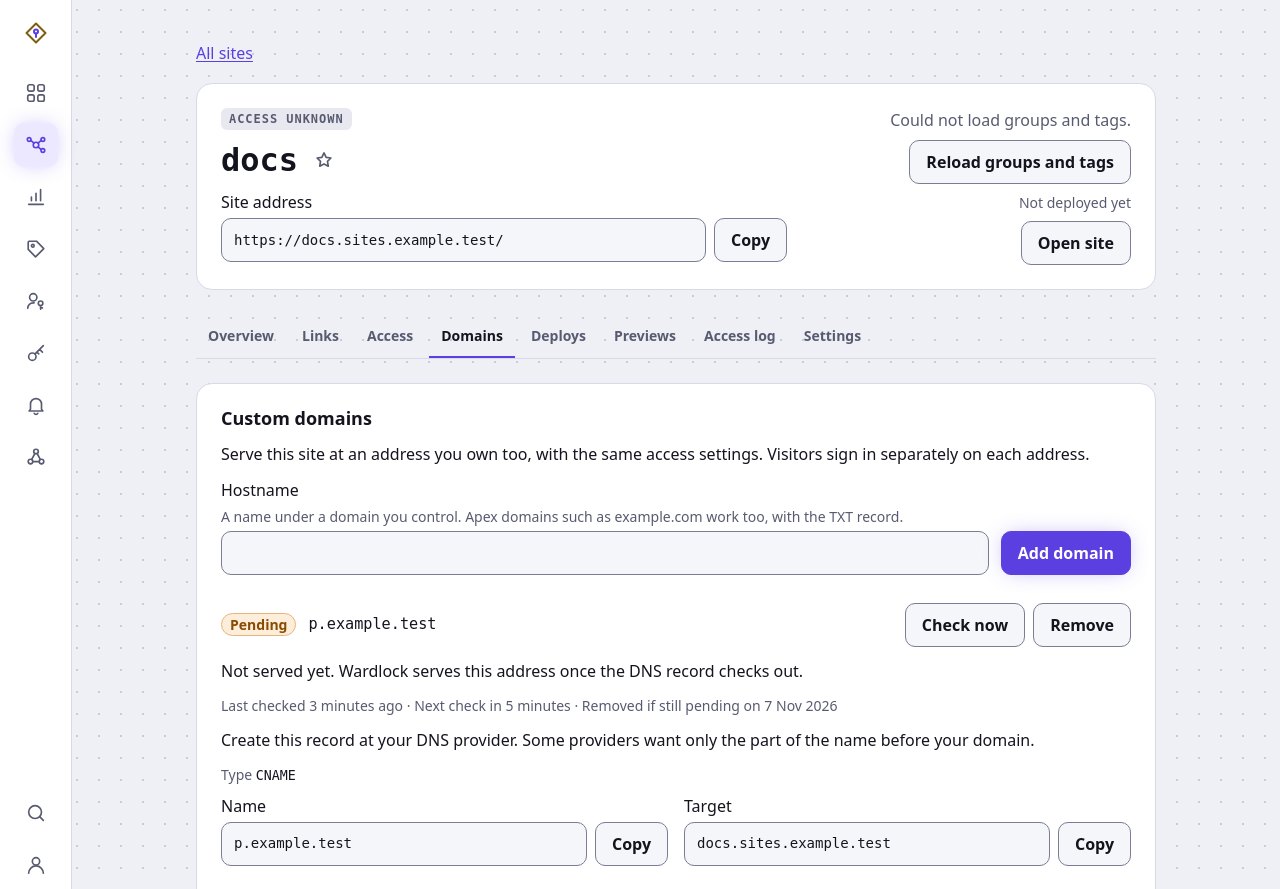
custom domains on the site page › shows the server’s error for a 429 that is not the cooldown
The width and height of the screenshot is (1280, 889).
Click the button with aria-label "Check p.example.test now" at [965, 625], box [905, 603, 1025, 647]
(page scrolled)
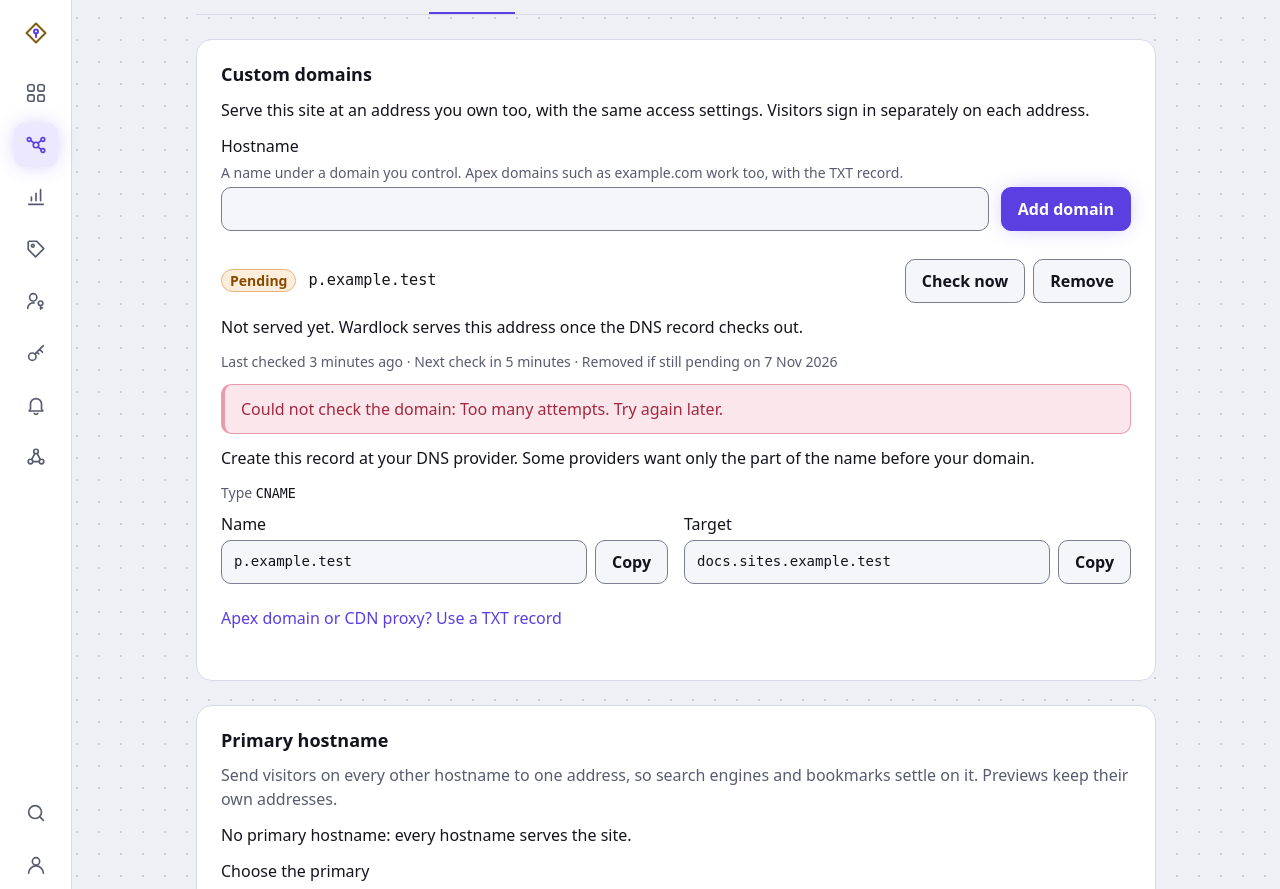
Expected: the list item "p.example.test" shows "Could not check the domain: Too many attempts. Try again later.", [241, 398, 723, 420]
